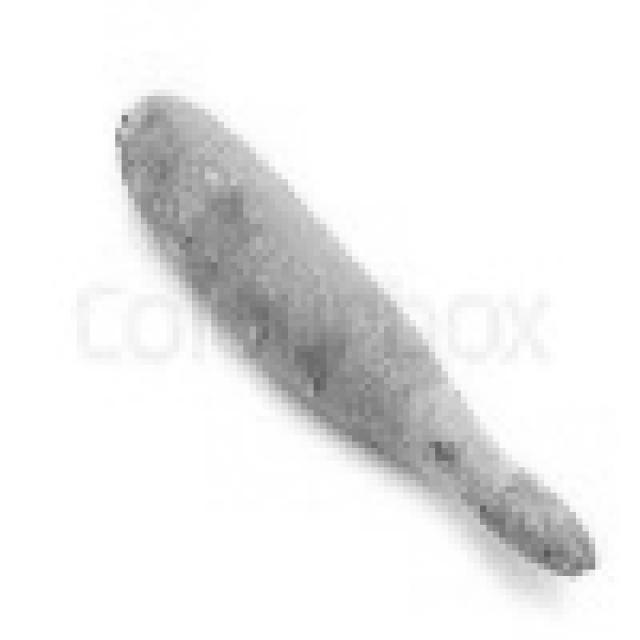Stale_Carrot: (395, 312, 612, 582)
